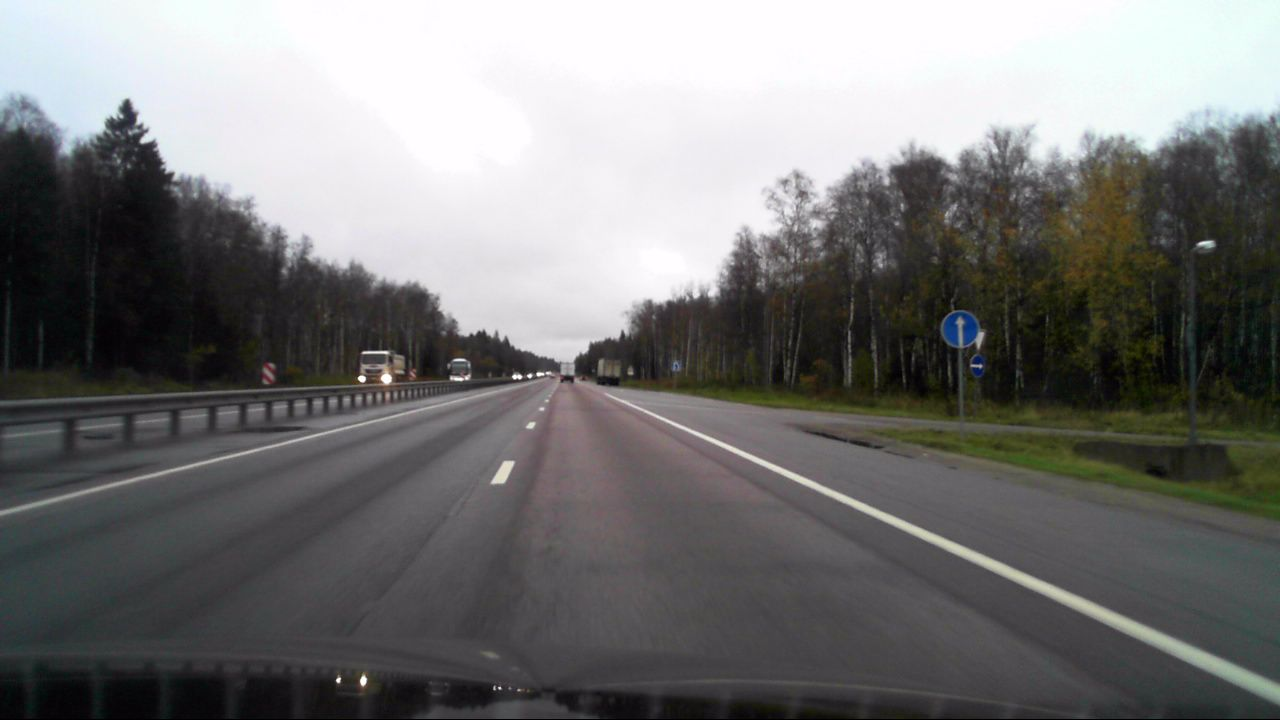Turn Right: (969, 354, 986, 378)
